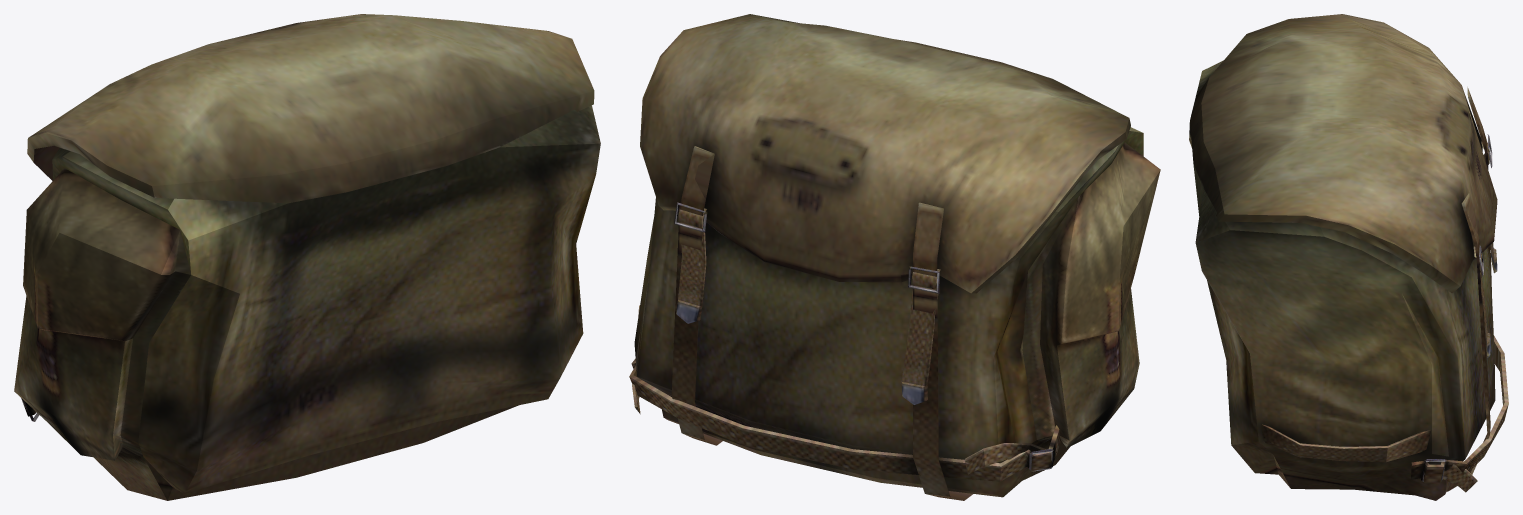
File: bag small.FBX
The picture shows the model from 3 angles, left to right: view 1: azimuth 30°, elevation 25°; view 2: azimuth 150°, elevation 25°; view 3: azimuth 270°, elevation 25°; orthographic projection. The views are drawn at different scales.
Visible parts, largest first — view 1: Object001; view 2: Object001; view 3: Object001.
Part boxes in pixels (x1,y1,x2,y2): Object001: (14,14,600,500); Object001: (629,14,1160,500); Object001: (1189,14,1508,500).
Size of the model in its own units: 0.2898 by 0.1825 by 0.2142.
